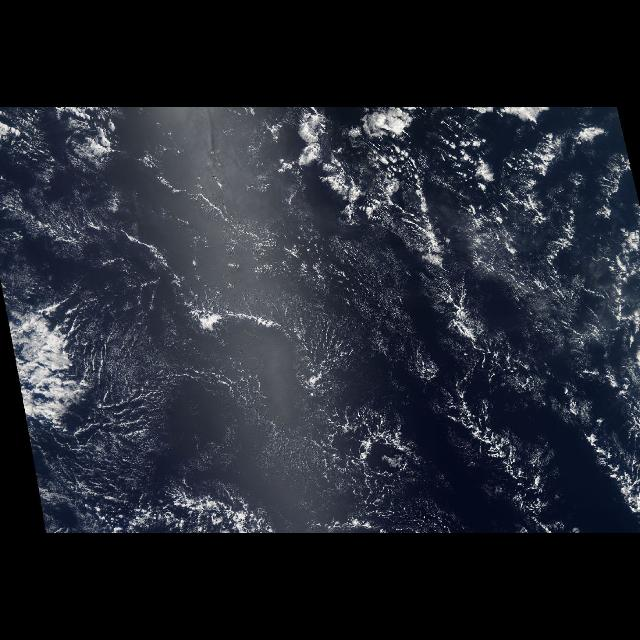Gravel: (429, 128, 639, 356)
Sugar: (93, 258, 454, 530)
